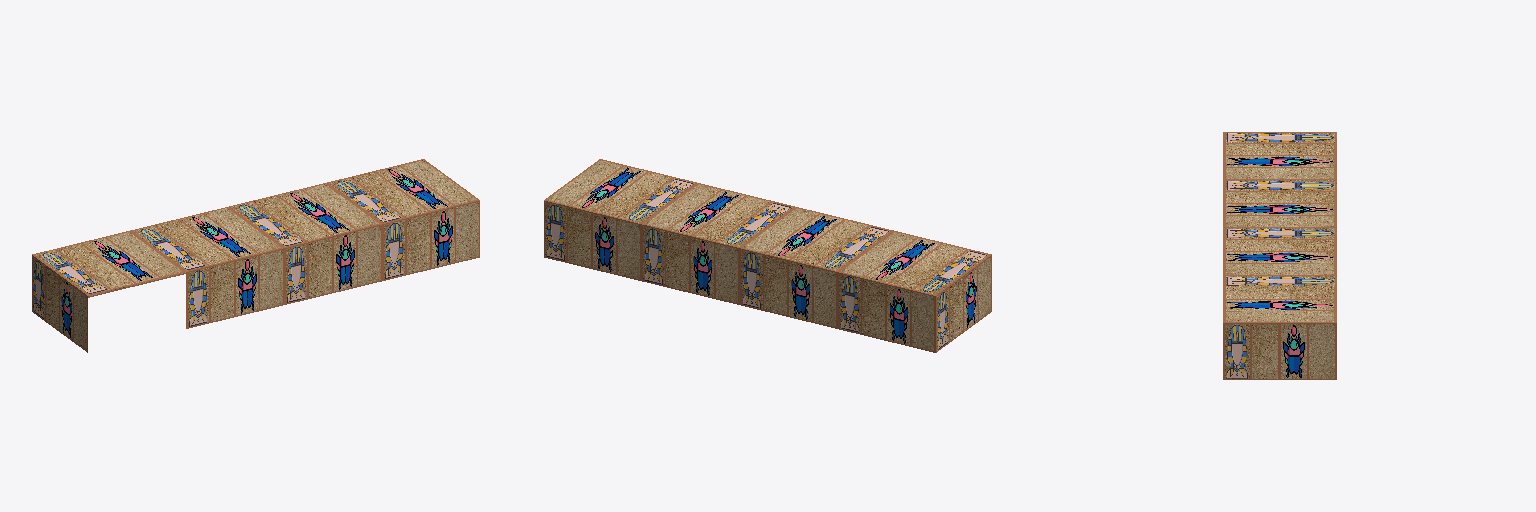
3 views of the same model, side by side, from view 1: azimuth 30°, elevation 25°; view 2: azimuth 150°, elevation 25°; view 3: azimuth 270°, elevation 25° (orthographic).
Parts seen in each view (by area): view 1: Box116; view 2: Box116; view 3: Box116.
Part boxes in pixels (x1,y1,x2,y2): Box116: (32,159,479,352); Box116: (544,159,991,352); Box116: (1223,132,1336,379).
Bounding box in the file's own units: 18 × 2.5 × 4.5.
1 materials, 1 textured.